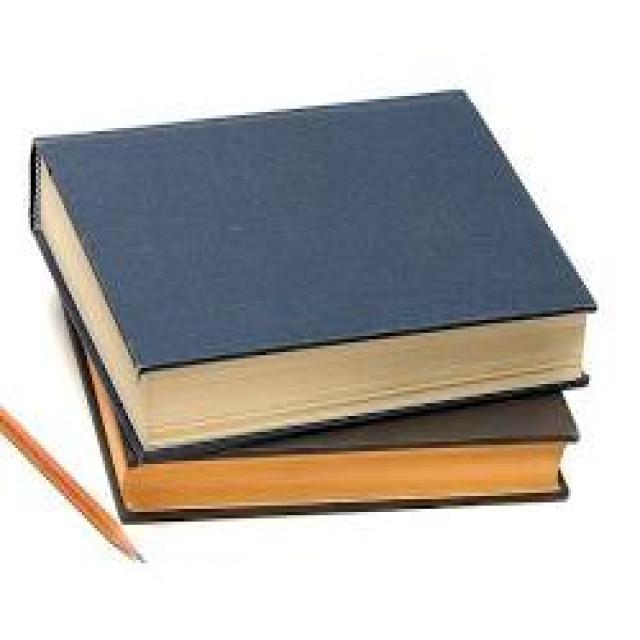alat_tulis: (12, 45, 638, 622)
